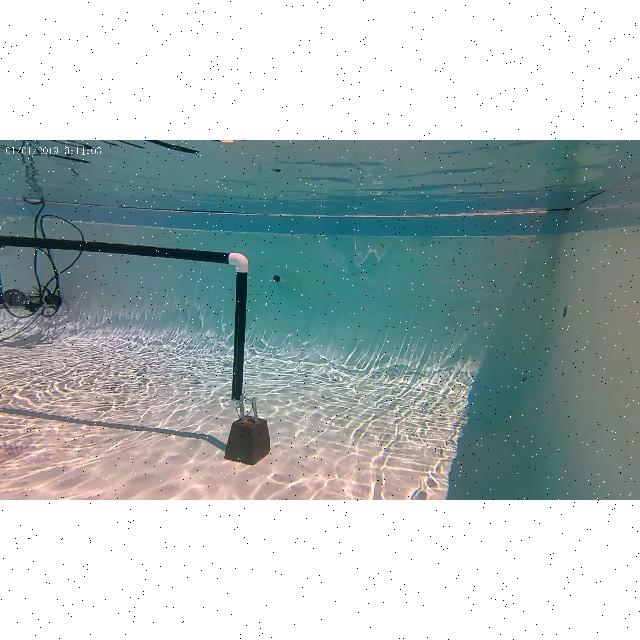prequal gate: (0, 235, 248, 407)
prequal gate leg r: (223, 240, 254, 412)
